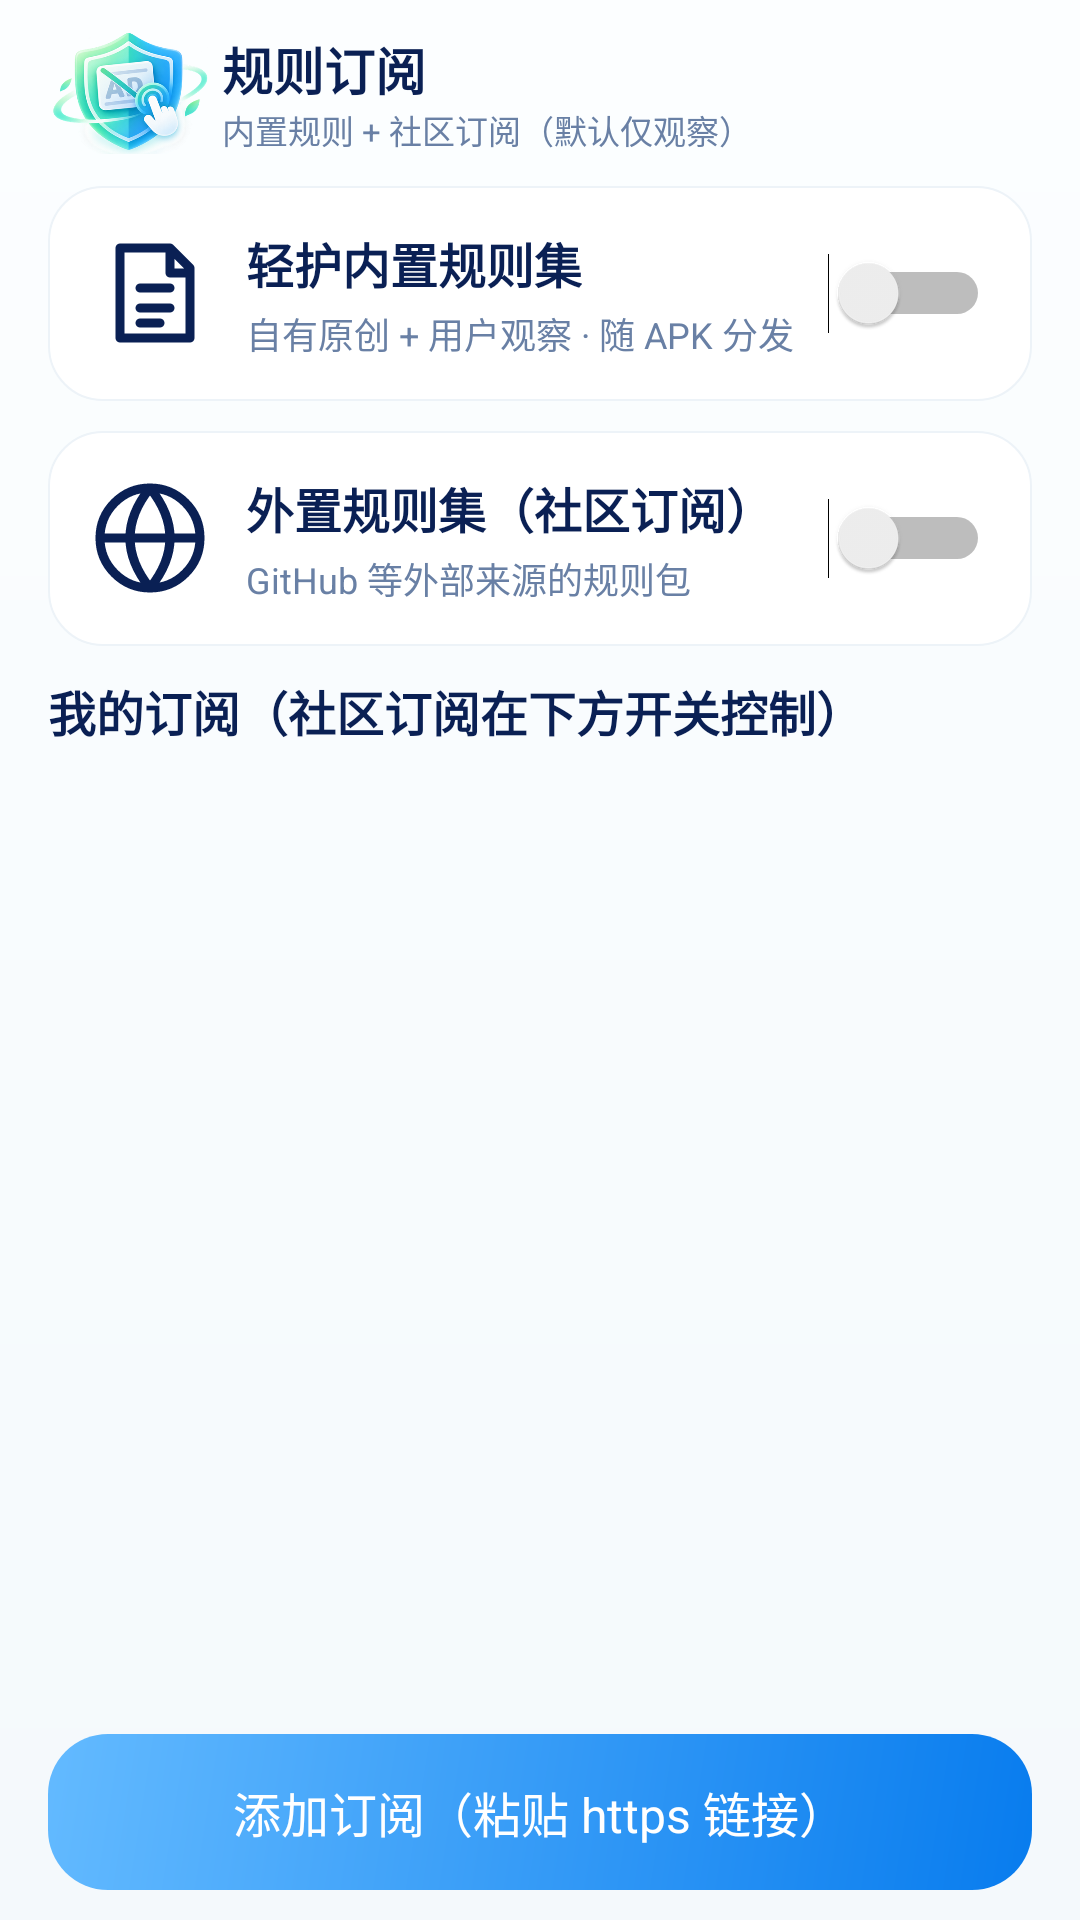

Named icons in this screenshot (1080 × 1920) and their centers, [x,y]:
globe: [150,538]
records: [155,293]
轻护标志: [130,92]
